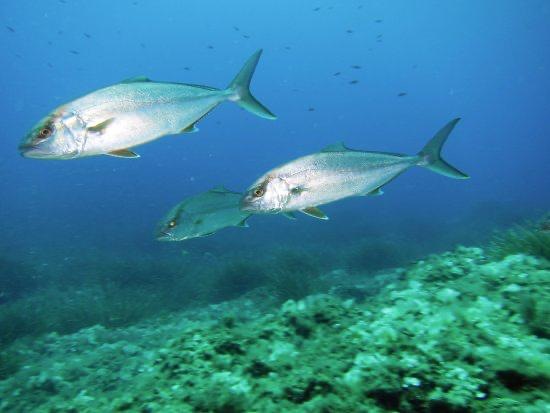Carangidae -Jacks-: (14, 45, 278, 169), (238, 109, 468, 228)
